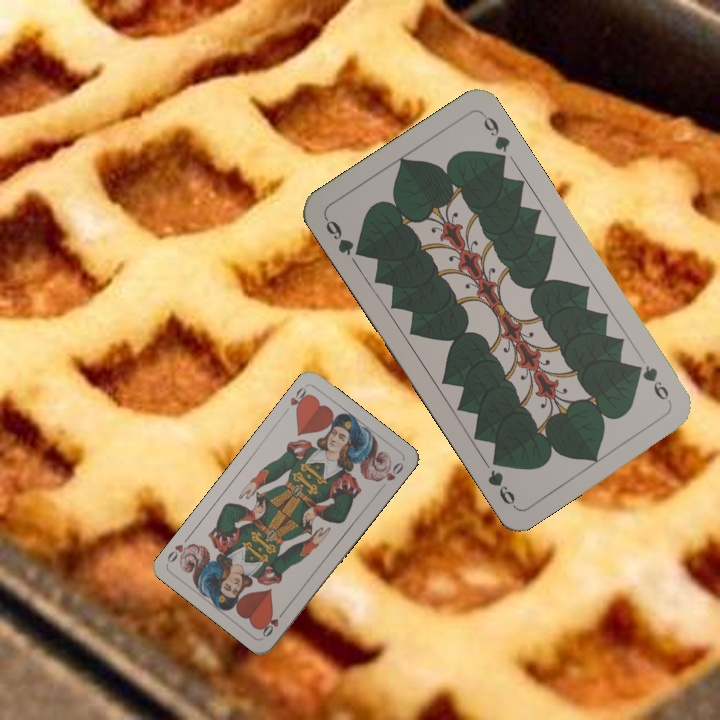G9: (320, 213, 367, 260), (629, 360, 674, 406)
HO: (258, 606, 288, 640), (286, 383, 313, 415)
